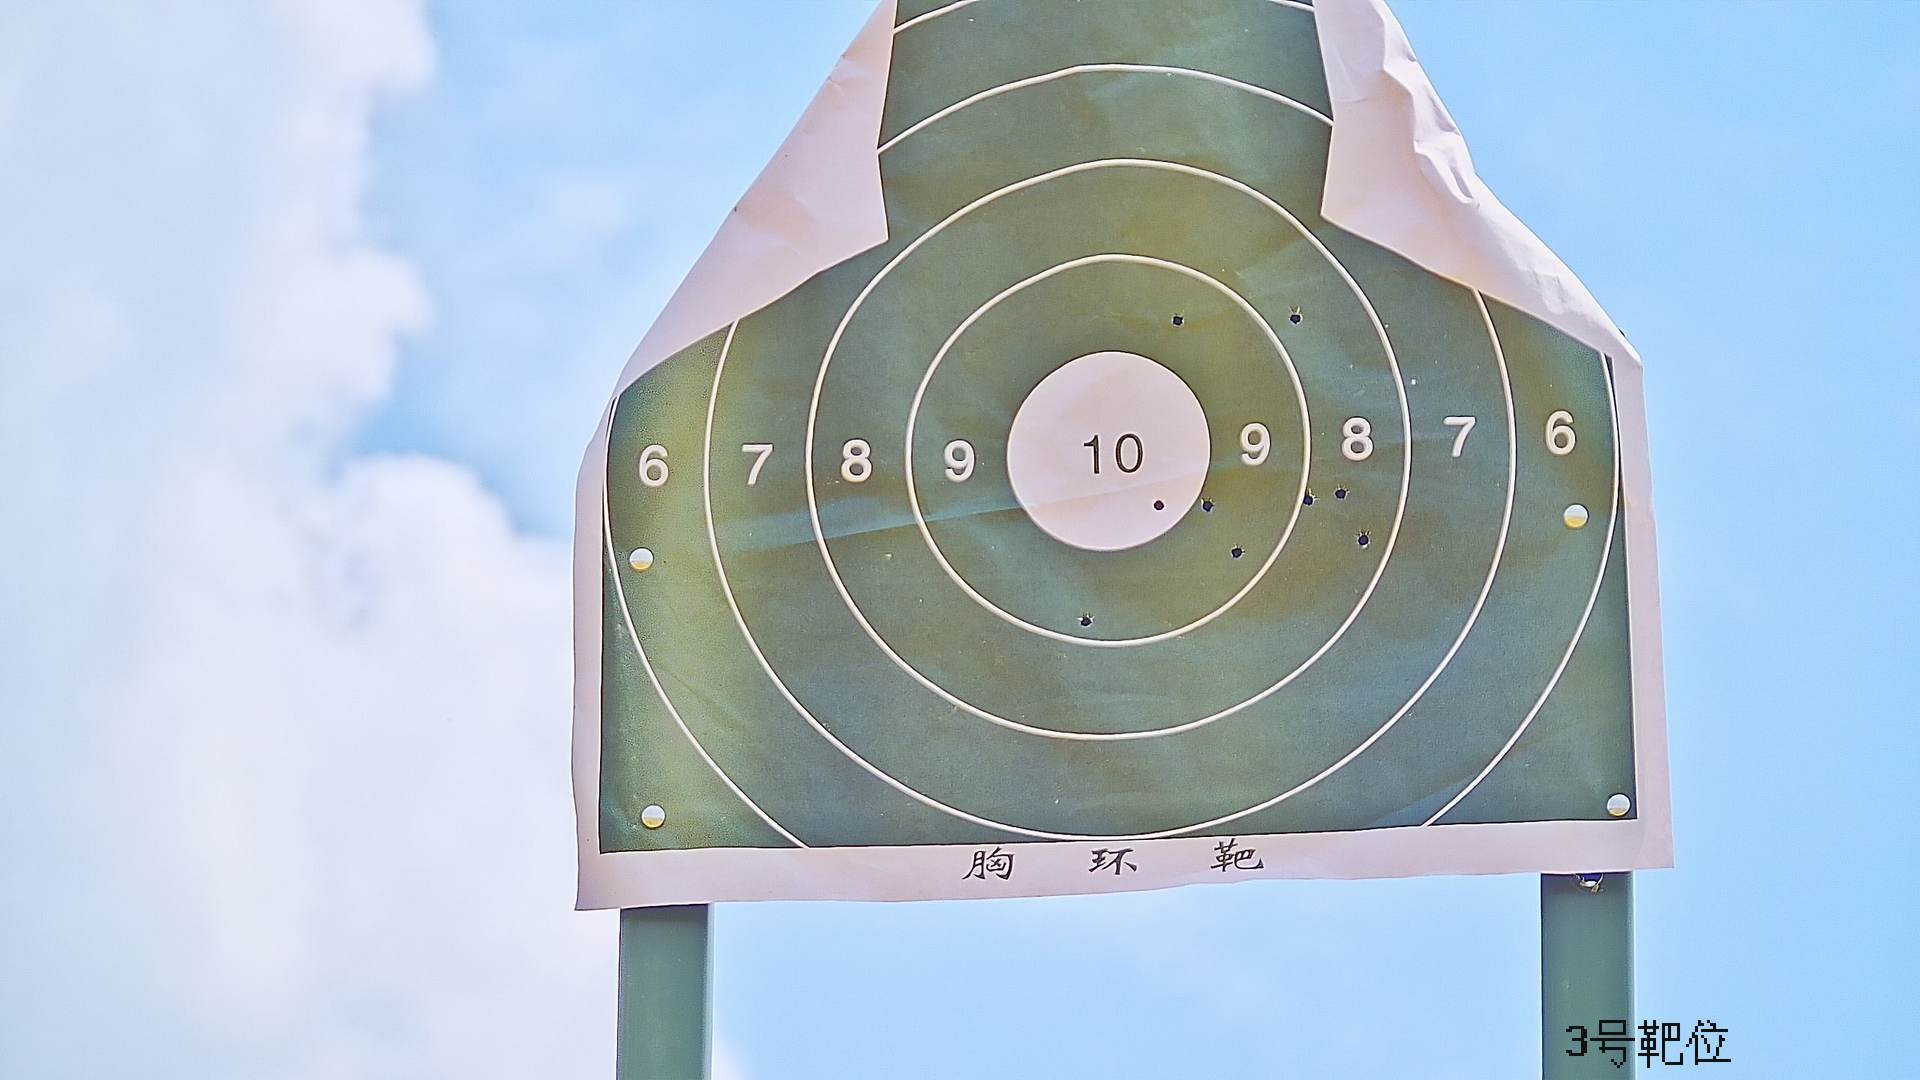hole: (1356, 531, 1371, 547), (1302, 491, 1315, 506), (1288, 311, 1303, 324), (1077, 615, 1093, 626), (1171, 313, 1183, 326), (1154, 498, 1166, 512), (1201, 500, 1215, 512), (1232, 545, 1244, 558), (1335, 487, 1346, 500)
kernel: (1106, 454, 1112, 458)
target: (597, 7, 1644, 872)
ten: (1006, 349, 1213, 556)
